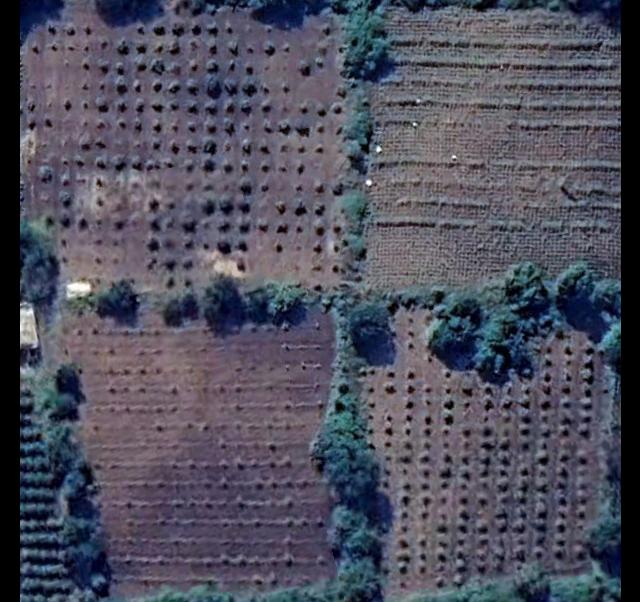Farms: (49, 300, 348, 598), (33, 5, 342, 289), (355, 0, 621, 297), (364, 306, 606, 596)
